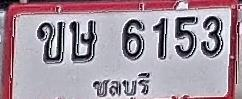1: (153, 18, 168, 60)
3: (202, 15, 222, 57)
5: (175, 16, 197, 58)
6: (122, 18, 144, 60)
A02: (37, 21, 65, 63)
A39: (70, 20, 96, 62)
CBI: (90, 69, 150, 99)
